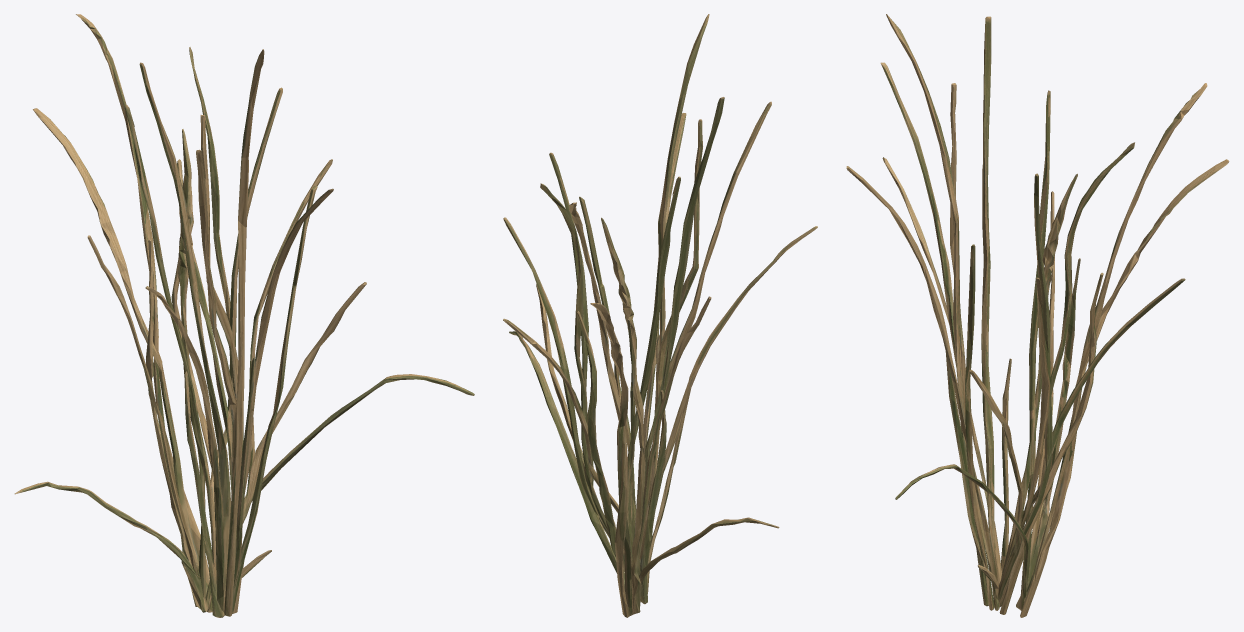
The model's file is junco_adorno.glb.
3 renders of one model, left to right at view 1: azimuth 30°, elevation 25°; view 2: azimuth 150°, elevation 25°; view 3: azimuth 270°, elevation 25°, orthographic. The views are drawn at different scales.
Bounding box in the file's own units: 1.22 × 1.9 × 1.11.
1 material, 1 textured.
